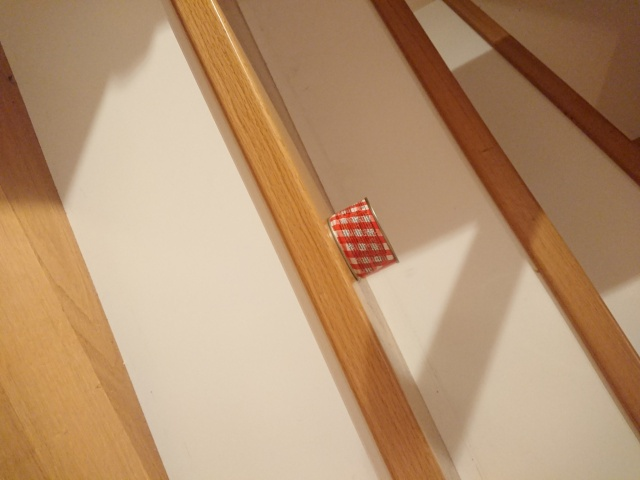Podravka Luncheon Meat 150g: (324, 195, 401, 284)
